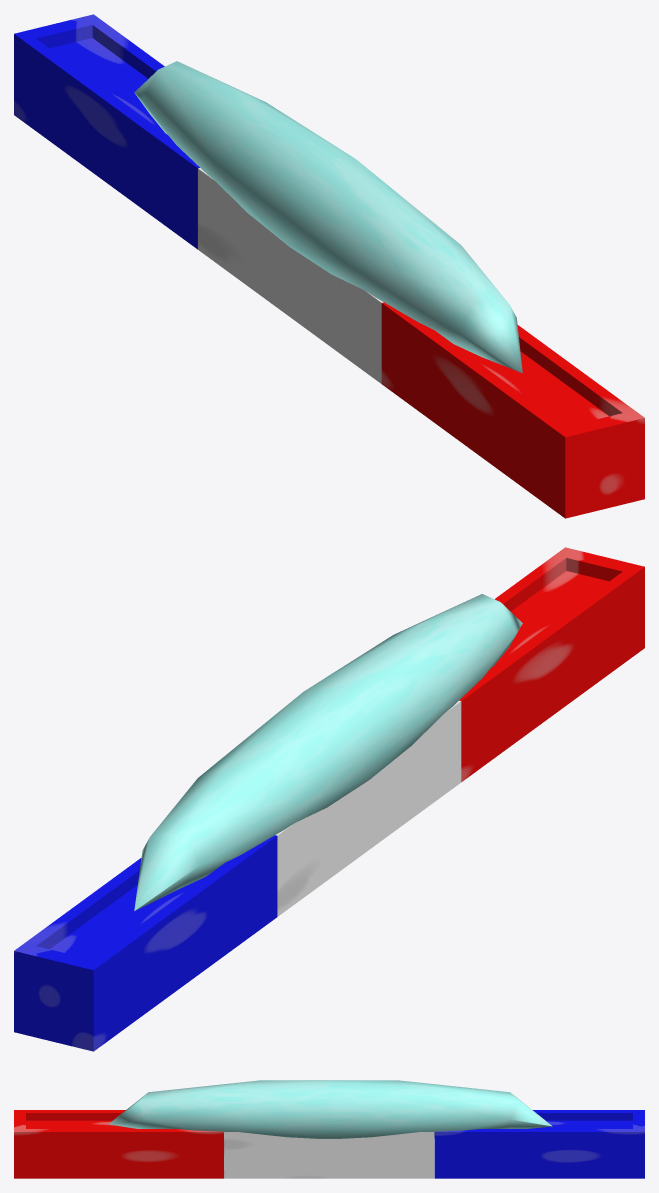
File: Snow_Track_Barrier.fbx
The picture shows the model from 3 angles, top to bottom: view 1: azimuth 30°, elevation 25°; view 2: azimuth 150°, elevation 25°; view 3: azimuth 270°, elevation 25°; orthographic projection. The views are drawn at different scales.
Visible parts, largest first — view 1: Snow, Go Kart Track Red, Go Kart Track Blue, Go Kart Track; view 2: Snow, Go Kart Track Blue, Go Kart Track Red, Go Kart Track; view 3: Snow, Go Kart Track Blue, Go Kart Track Red, Go Kart Track.
Boxes of the visible parts, <box> form: Snow: <box>134,61,522,372</box>; Go Kart Track Red: <box>381,302,644,518</box>; Go Kart Track Blue: <box>14,14,199,249</box>; Go Kart Track: <box>198,168,383,383</box>; Snow: <box>134,594,522,910</box>; Go Kart Track Blue: <box>14,835,277,1051</box>; Go Kart Track Red: <box>459,547,644,782</box>; Go Kart Track: <box>275,700,461,916</box>; Snow: <box>108,1080,552,1138</box>; Go Kart Track Blue: <box>434,1110,644,1178</box>; Go Kart Track Red: <box>14,1110,224,1178</box>; Go Kart Track: <box>224,1132,434,1178</box>.
Bounding box in the file's own units: 334 × 507 × 3385.
